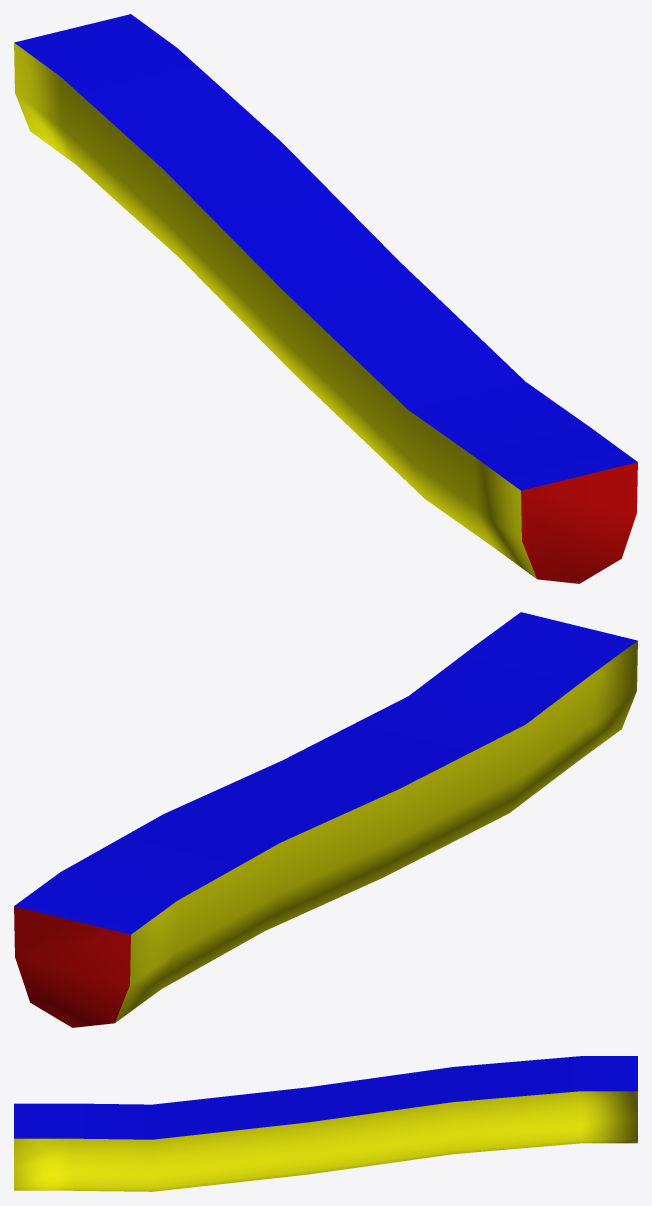
3 views of the same model, one above another, from view 1: azimuth 30°, elevation 25°; view 2: azimuth 150°, elevation 25°; view 3: azimuth 270°, elevation 25° (orthographic). The views are drawn at different scales.
Parts seen in each view (by area): view 1: polySurface107; view 2: polySurface107; view 3: polySurface107.
Boxes of the visible parts, bbox=[...] form: polySurface107: bbox=[14, 14, 637, 583]; polySurface107: bbox=[14, 612, 637, 1027]; polySurface107: bbox=[14, 1056, 637, 1191].
Size of the model in its own units: 23.58 by 35.87 by 177.
